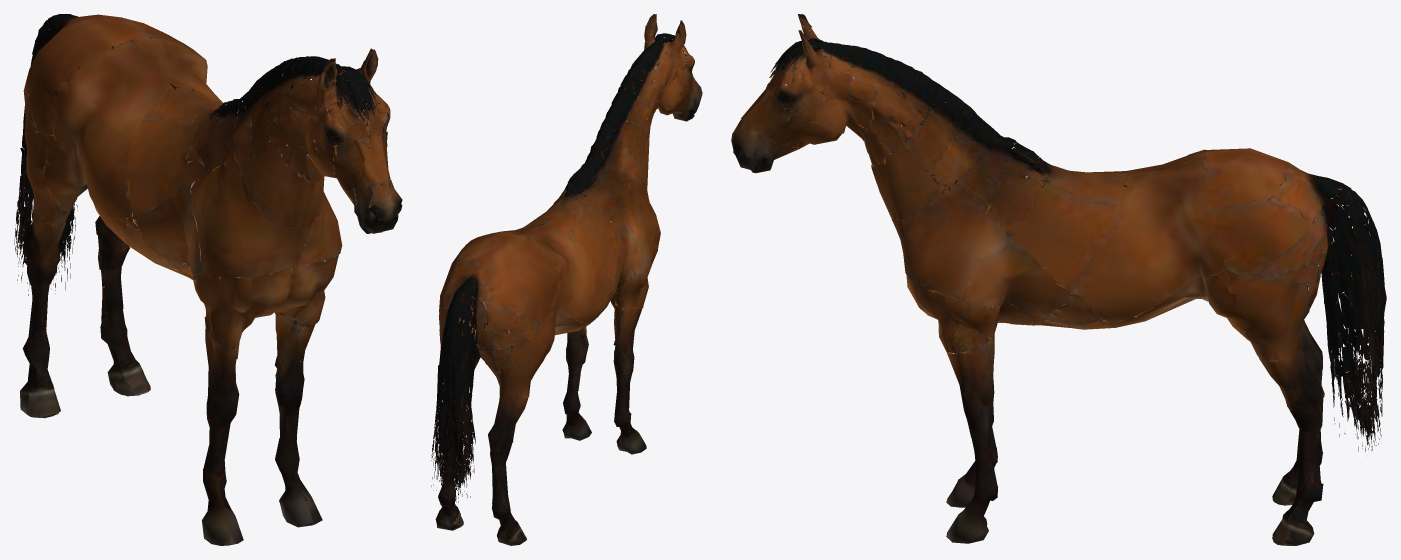
The model's file is horse_brown.glb.
3 views of the same model, side by side, from view 1: azimuth 30°, elevation 25°; view 2: azimuth 150°, elevation 25°; view 3: azimuth 270°, elevation 25° (orthographic). The views are drawn at different scales.
Visible parts, largest first — view 1: Horse_Brown; view 2: Horse_Brown; view 3: Horse_Brown.
Part boxes in pixels (x1,y1,x2,y2): Horse_Brown: (14,14,402,545); Horse_Brown: (431,14,702,545); Horse_Brown: (731,14,1386,545).
Bounding box in the file's own units: 0.5841 × 2.01 × 2.4.
1 material, 1 textured.
